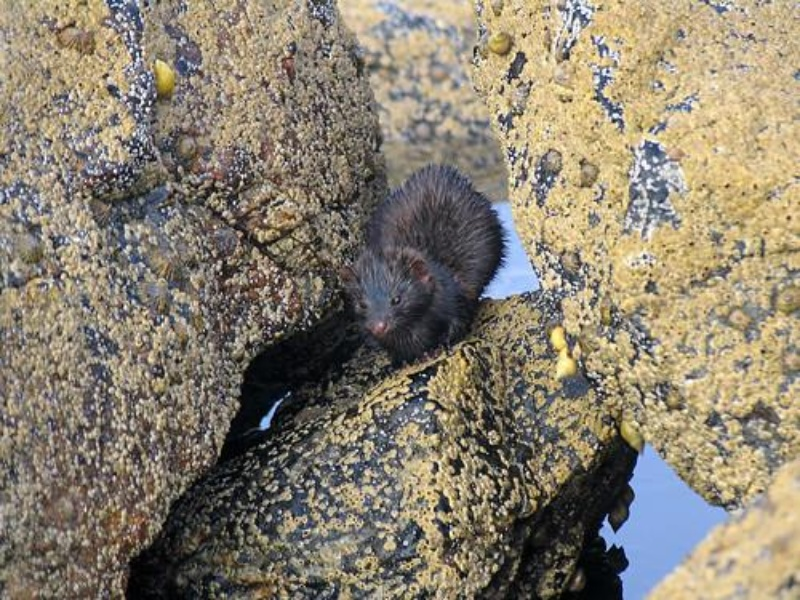minkish: (342, 163, 508, 370)
